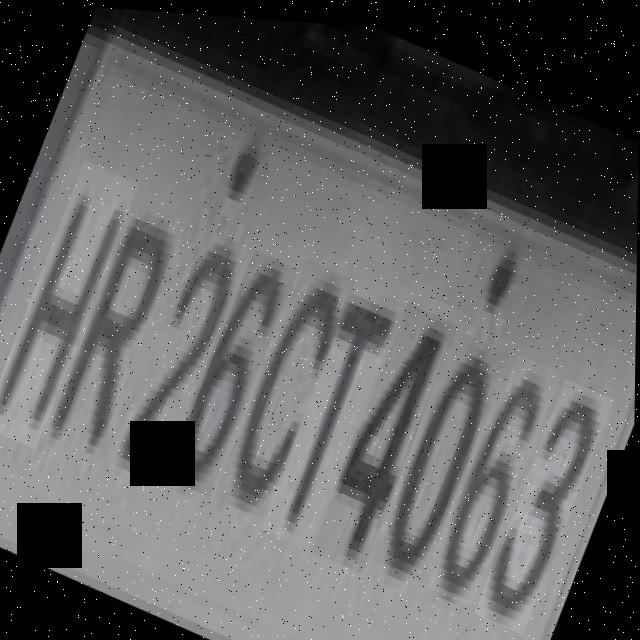0: (374, 321, 511, 582)
3: (476, 365, 616, 632)
4: (313, 292, 460, 574)
6: (428, 340, 563, 605), (166, 242, 299, 501)
C: (216, 249, 357, 519)
H: (0, 155, 139, 455)
R: (43, 186, 193, 473)
T: (262, 276, 403, 551)
